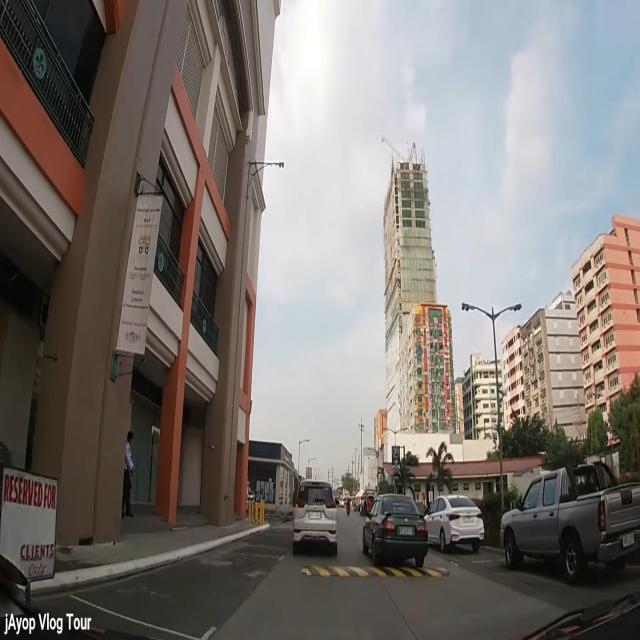car: (498, 460, 638, 585), (362, 493, 428, 569), (422, 494, 484, 556), (292, 479, 340, 556)
motorcycle: (346, 498, 351, 516)
